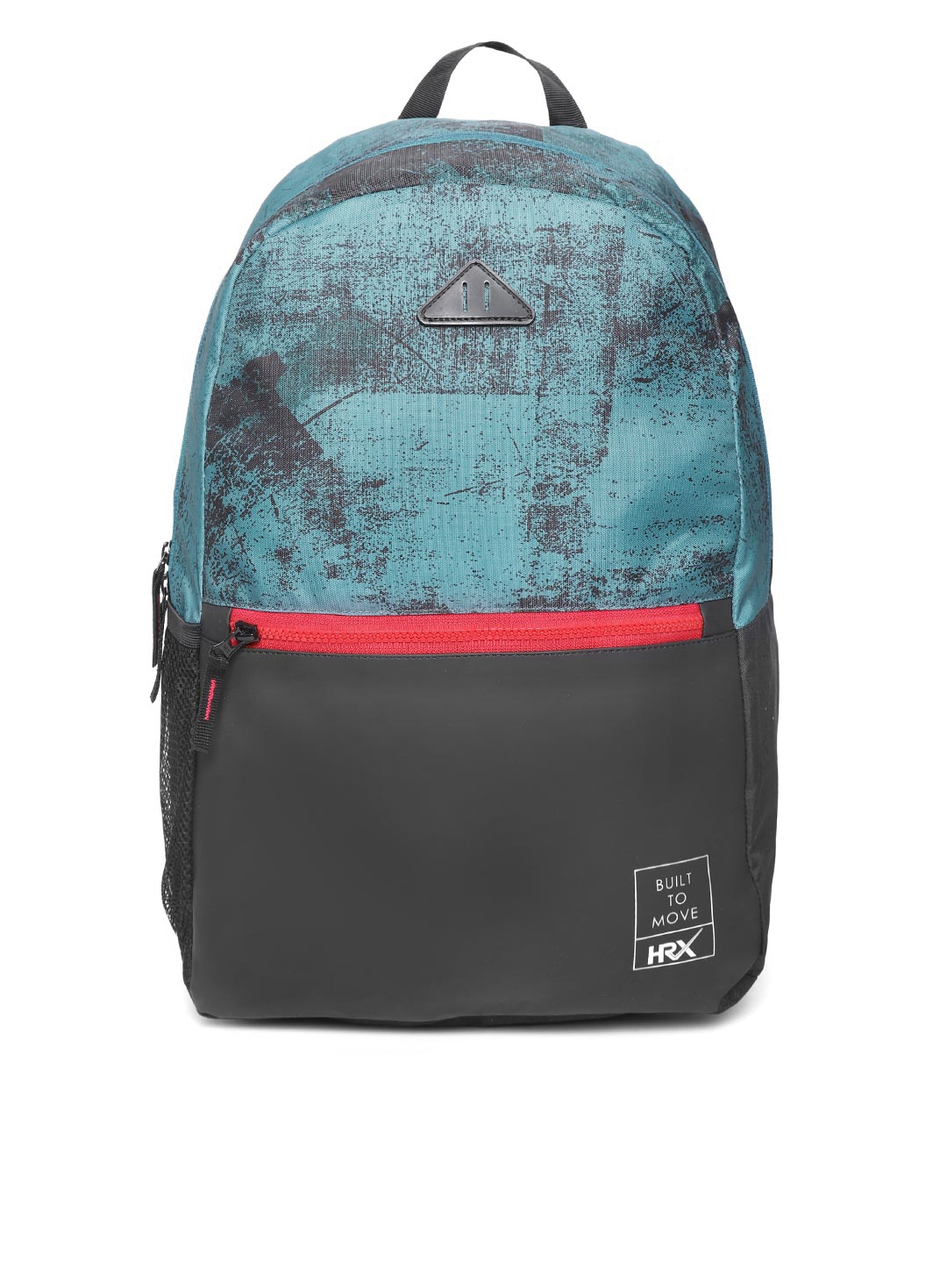backpack: (150, 39, 780, 1028)
